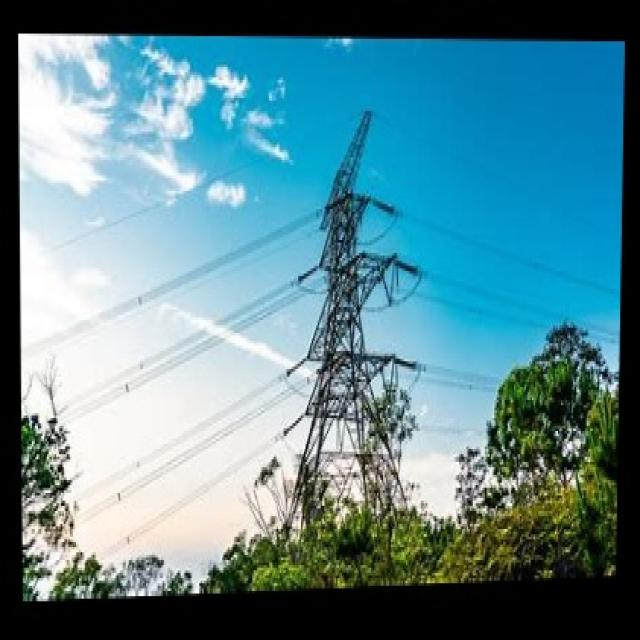utility poles: (468, 305, 612, 564), (301, 329, 433, 562)
